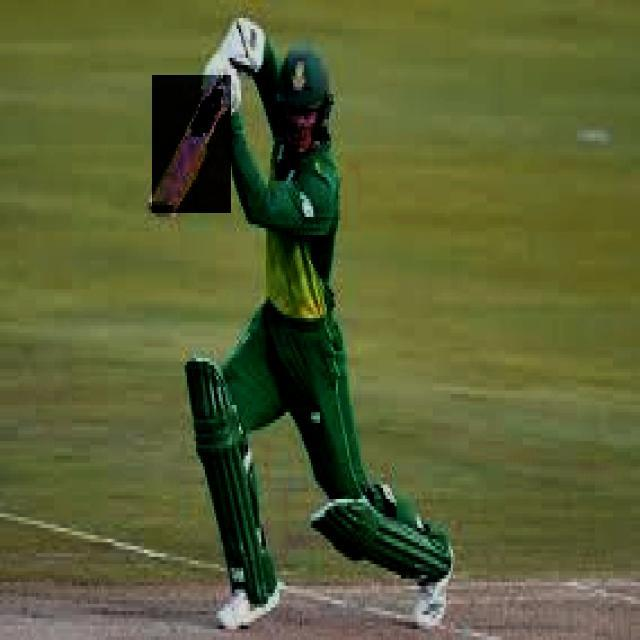bat: (152, 75, 230, 215)
toe: (145, 201, 180, 219)
